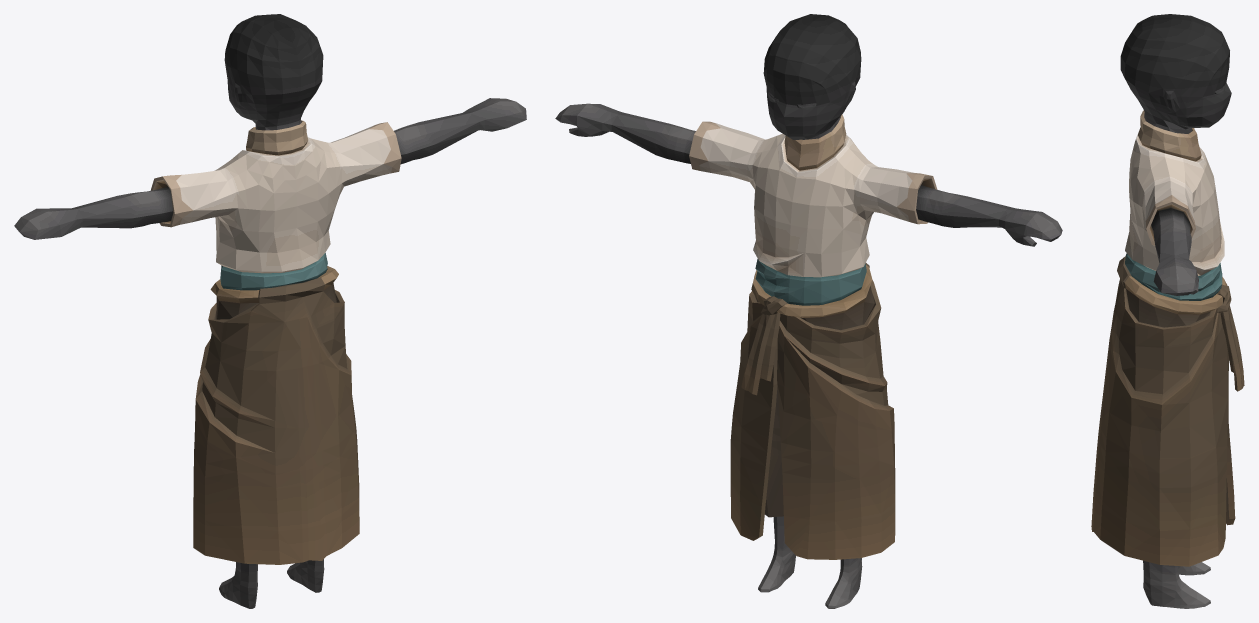
The model's file is CharSkyKid_Body_AP27OldMan.glb.
3 views of the same model, side by side, from view 1: azimuth 30°, elevation 25°; view 2: azimuth 150°, elevation 25°; view 3: azimuth 270°, elevation 25° (orthographic).
Parts seen in each view (by area): view 1: CharSkyKid_Body_AP27OldMan; view 2: CharSkyKid_Body_AP27OldMan; view 3: CharSkyKid_Body_AP27OldMan.
Part boxes in pixels (left/top/right/bottom): CharSkyKid_Body_AP27OldMan: left=14, top=14, right=526, bottom=608; CharSkyKid_Body_AP27OldMan: left=555, top=14, right=1062, bottom=608; CharSkyKid_Body_AP27OldMan: left=1091, top=14, right=1244, bottom=608.
Size of the model in its own units: 13.83 by 14.94 by 3.64.
Materials: 1 (1 with a texture image).
